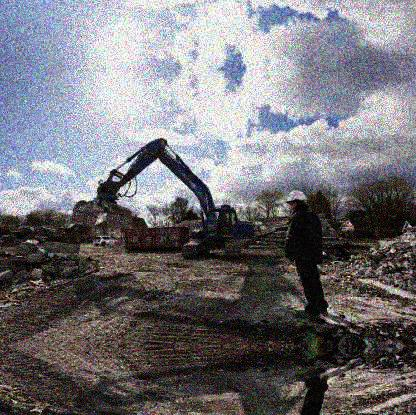helmet: (285, 191, 307, 213)
